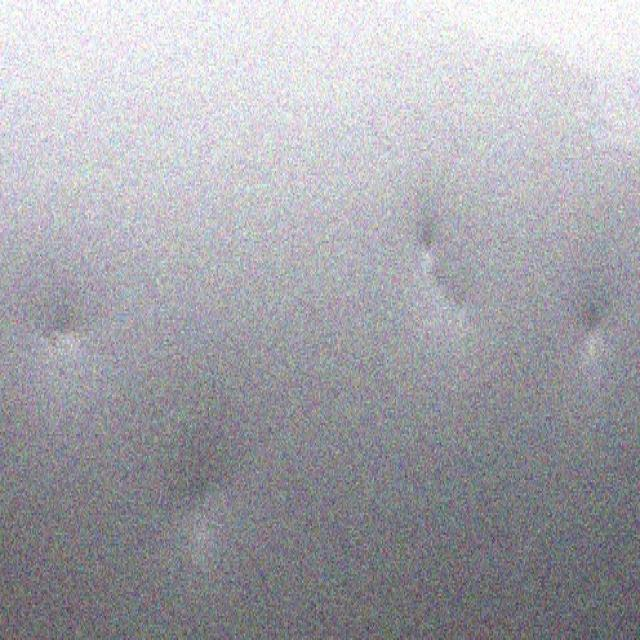dent: (404, 247, 488, 363), (155, 448, 221, 567), (49, 271, 111, 363), (570, 282, 605, 376)
